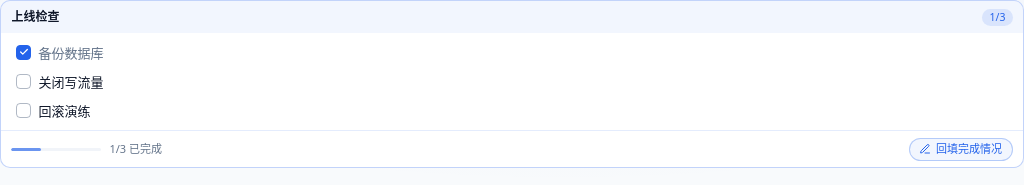
Test case: Markdown 任务清单（::: checklist） › 点选切换：样式与计数联动
Step 1. Click the button with class "md-checkline" showing "关闭写流量" → [71, 82], box [11,67,1013,96]
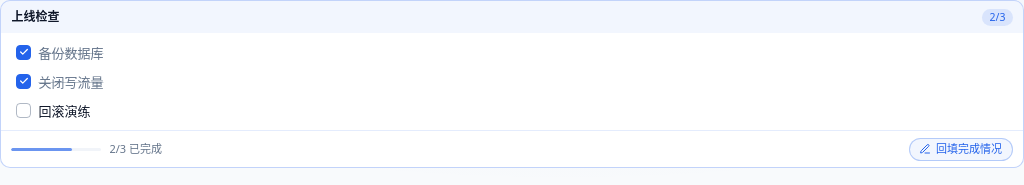
Expected: the text with class "md-checklist-count" reads "2/3", [982,9,1013,26]
